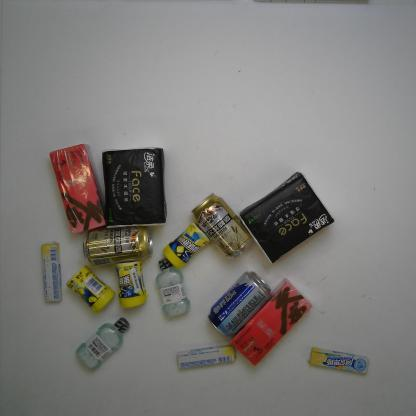Alcohol: (206, 268, 272, 338), (190, 190, 253, 259), (81, 224, 154, 266)
Candy: (306, 346, 370, 376), (176, 343, 237, 370), (40, 240, 66, 303)
Gum: (65, 264, 116, 313), (162, 220, 211, 270), (114, 259, 148, 310)
Instant Drink: (230, 276, 315, 367), (48, 141, 107, 235)
Personal Hygiene: (74, 316, 131, 372), (154, 258, 194, 318)
Tissue: (238, 169, 336, 265), (100, 145, 169, 229)
